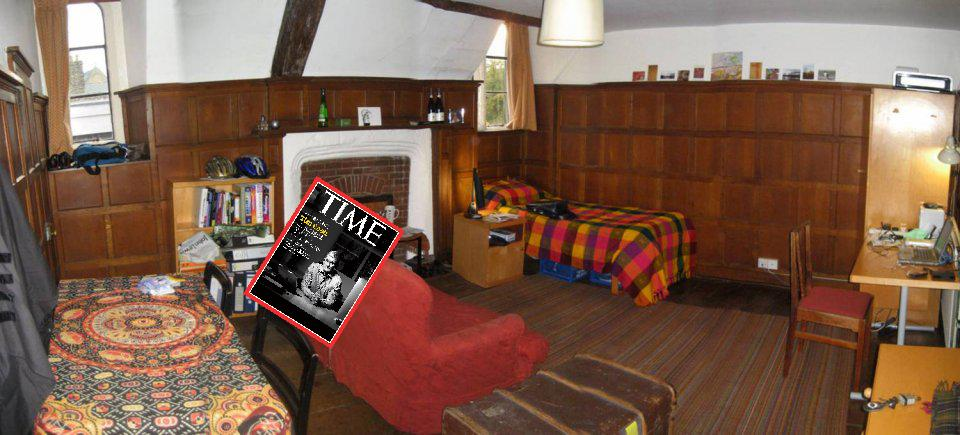times: (244, 174, 409, 353)
